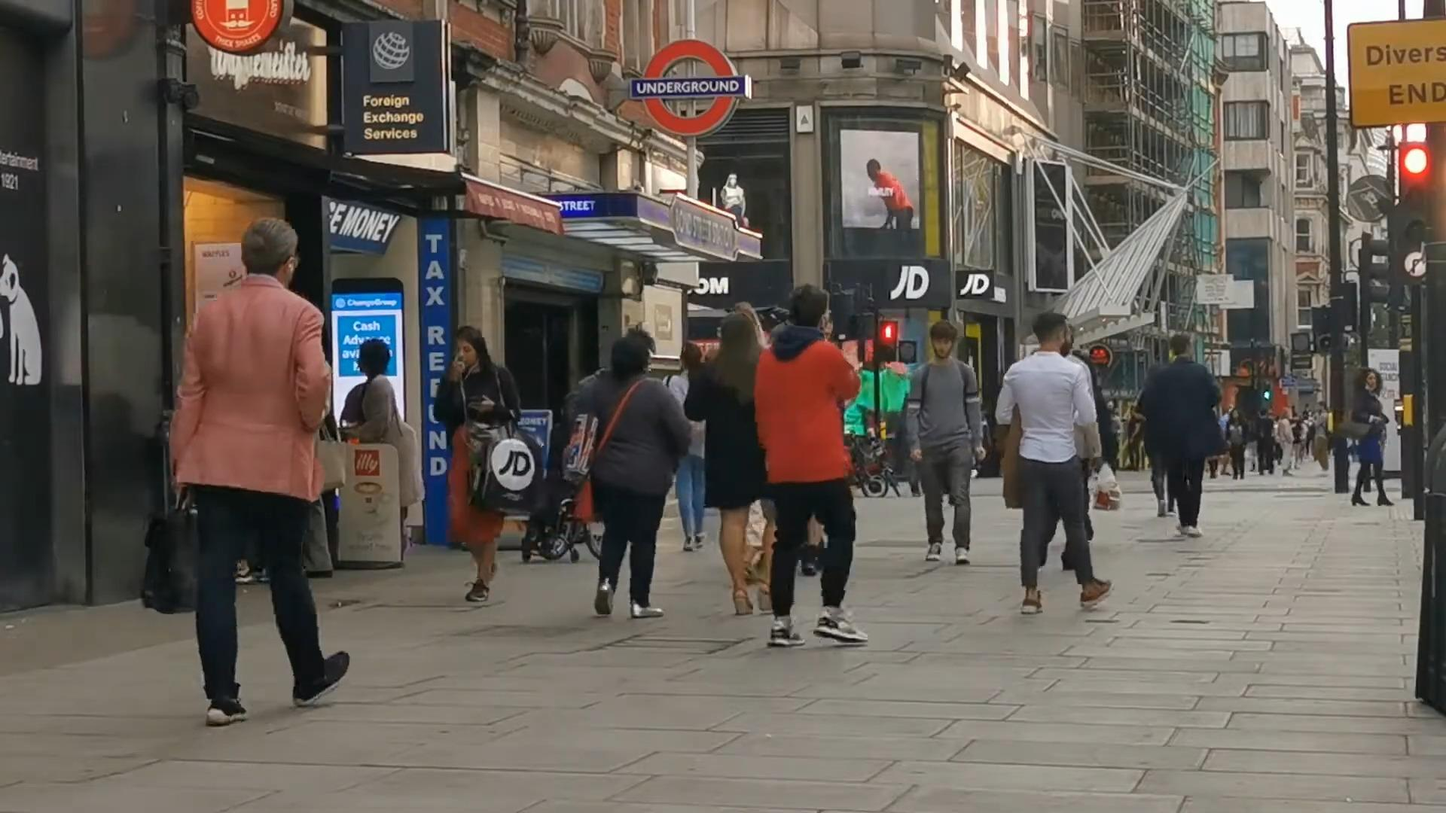no-helmet: (241, 217, 299, 290), (715, 312, 764, 365), (788, 283, 833, 335), (612, 336, 649, 391), (1033, 312, 1074, 358), (456, 326, 493, 369), (930, 320, 957, 361), (1353, 368, 1382, 397), (1169, 334, 1194, 361)
